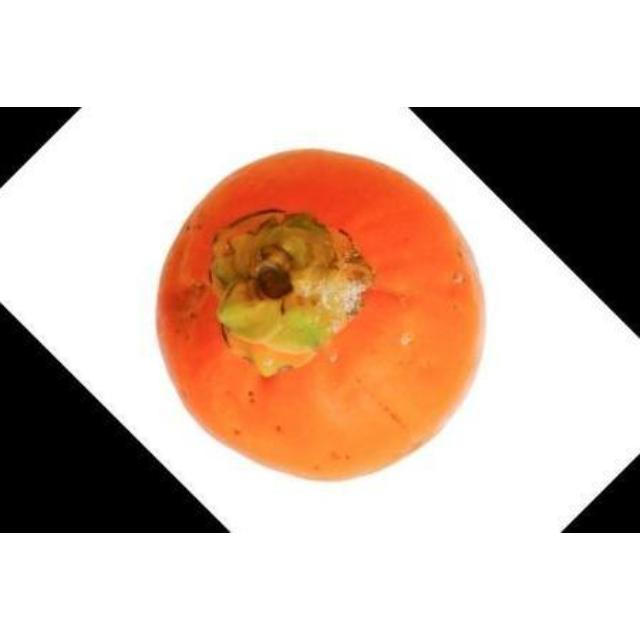good: (151, 147, 489, 482)
